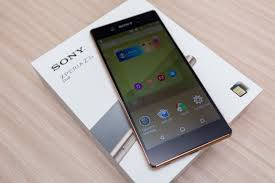sony: (88, 5, 236, 168)
